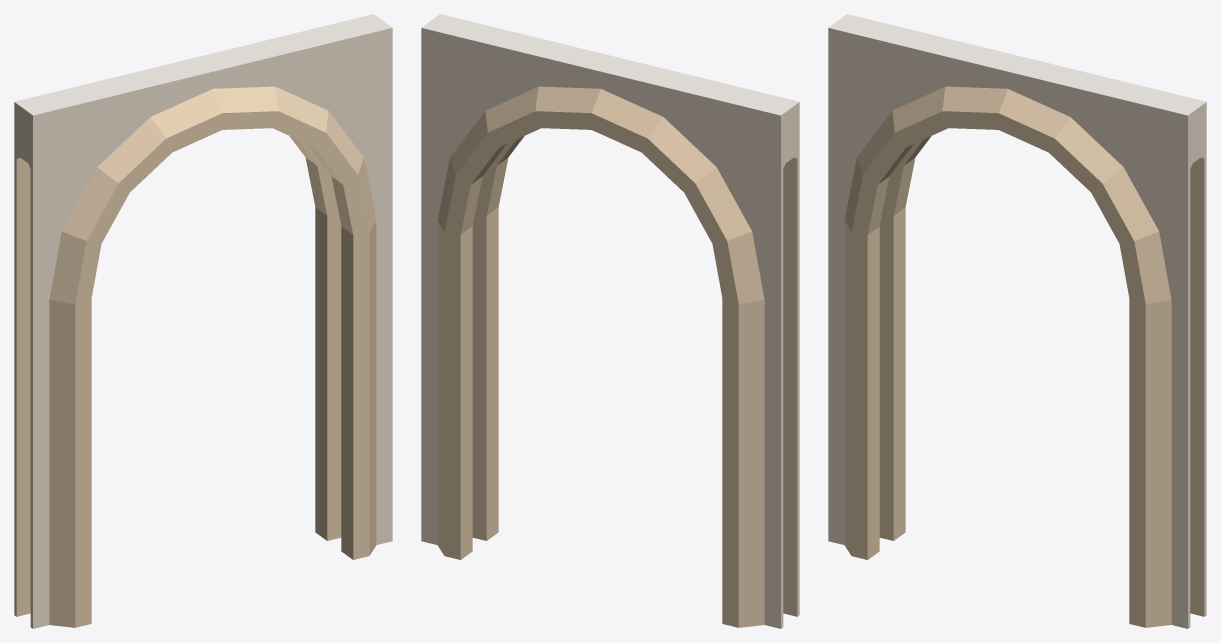
File: Wall_Straight_Doorway_Large_Pocket.glb
The picture shows the model from 3 angles, left to right: view 1: azimuth 30°, elevation 25°; view 2: azimuth 150°, elevation 25°; view 3: azimuth 330°, elevation 25°; orthographic projection.
Parts seen in each view (by area): view 1: Wall_Straight_Doorway_Large_Pocket; view 2: Wall_Straight_Doorway_Large_Pocket; view 3: Wall_Straight_Doorway_Large_Pocket.
Part boxes in pixels (x1,y1,x2,y2): Wall_Straight_Doorway_Large_Pocket: (14,14,392,628); Wall_Straight_Doorway_Large_Pocket: (421,14,799,628); Wall_Straight_Doorway_Large_Pocket: (828,14,1206,628).
Bounding box in the file's own units: 2.2 × 3 × 0.4.
